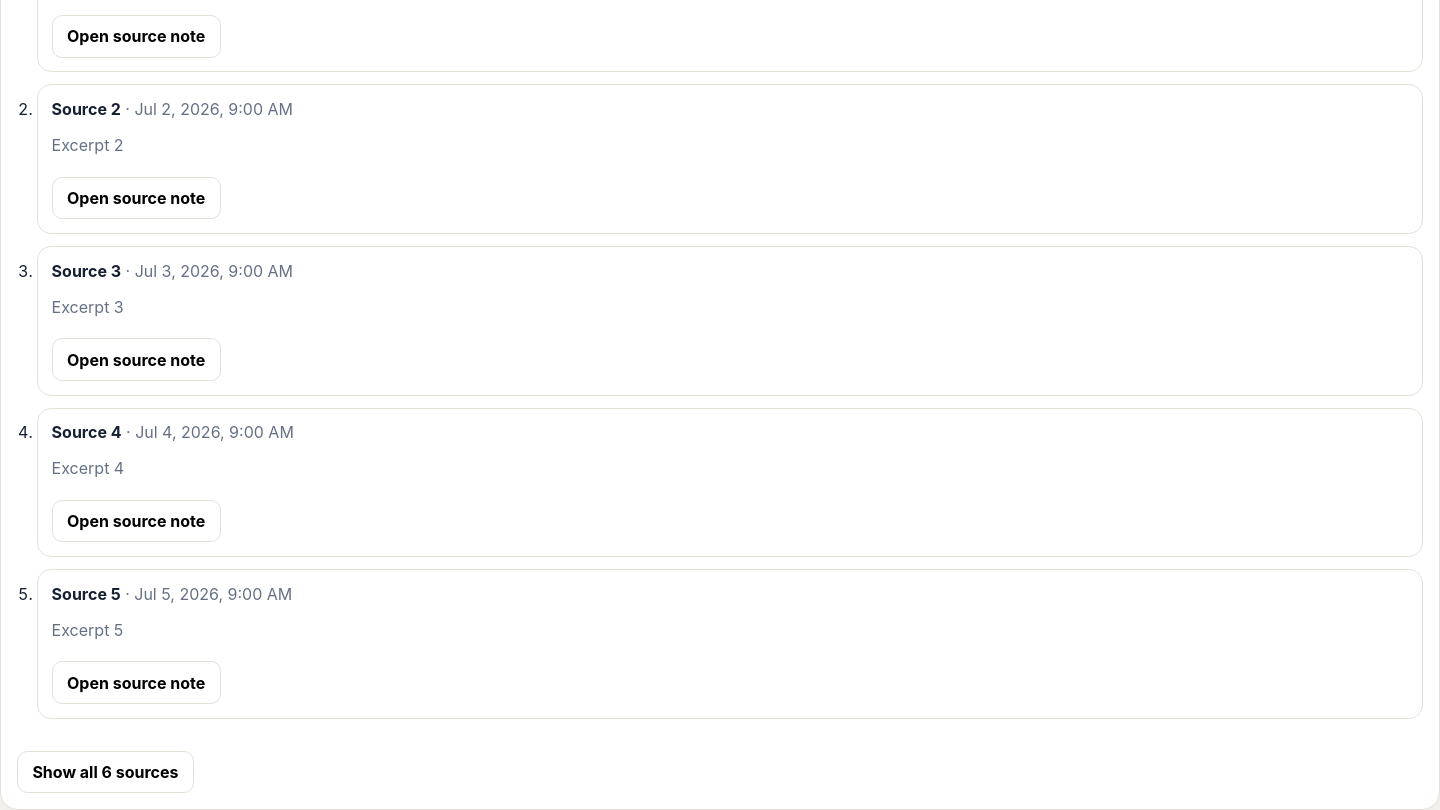
Test: CollapsibleSourceList › shows the first five of six sources, preserves API order, expands and collapses
(page scrolled)
Expected: the text "Source 6" is not shown
What coordinates should you click on to do the following:
click the button "Show all 6 sources"
I would click on:
 (105, 772)
Its box is [17,751,194,793].
(page scrolled)
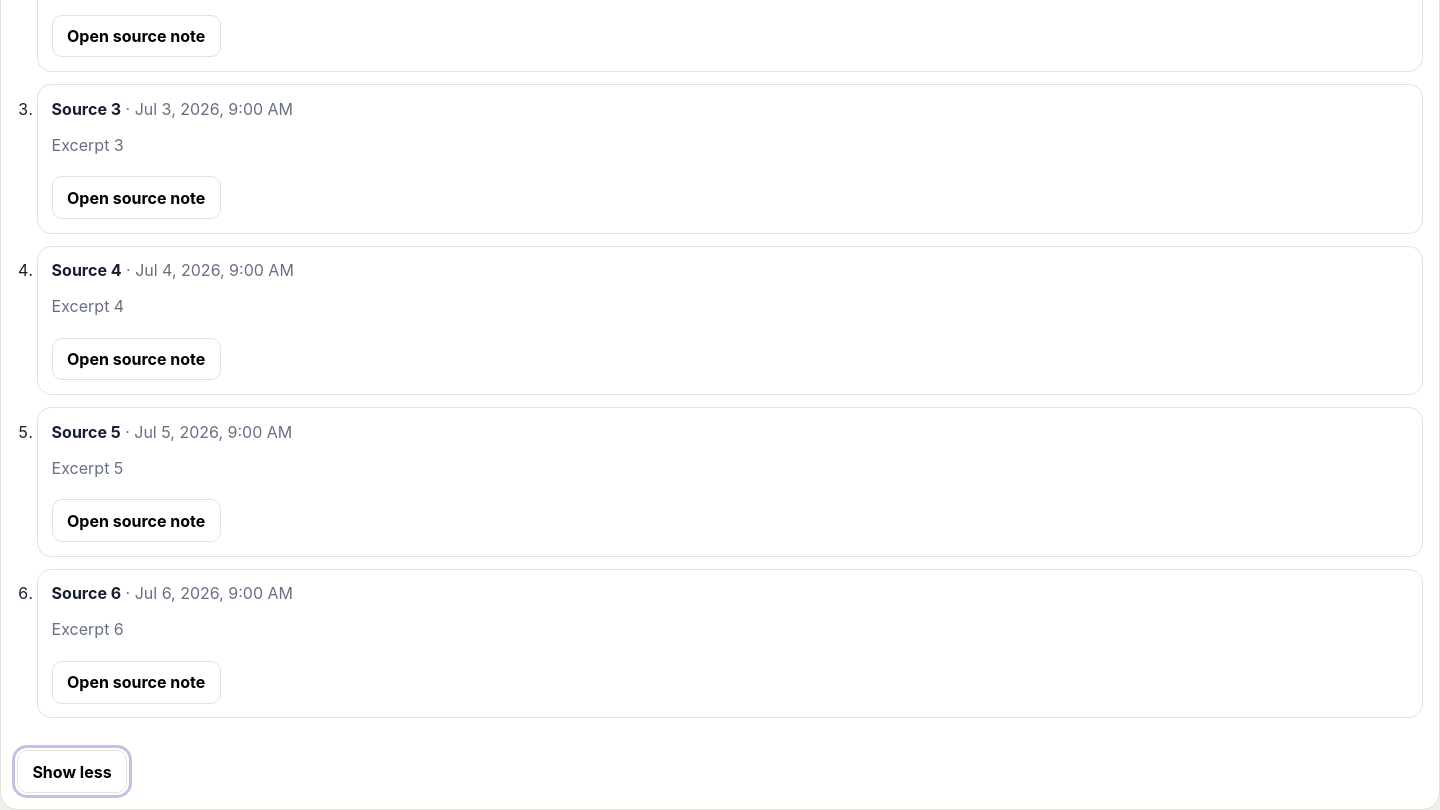
Result: the button named "Show all 6 sources" is expanded
Result: the text "Source 6" is shown at [52,583,121,603]
What coordinates should you click on to do the following:
click the button with aria-label "Show fewer 6 sources"
I would click on:
 (72, 772)
Its box is [17,750,127,793].
(page scrolled)
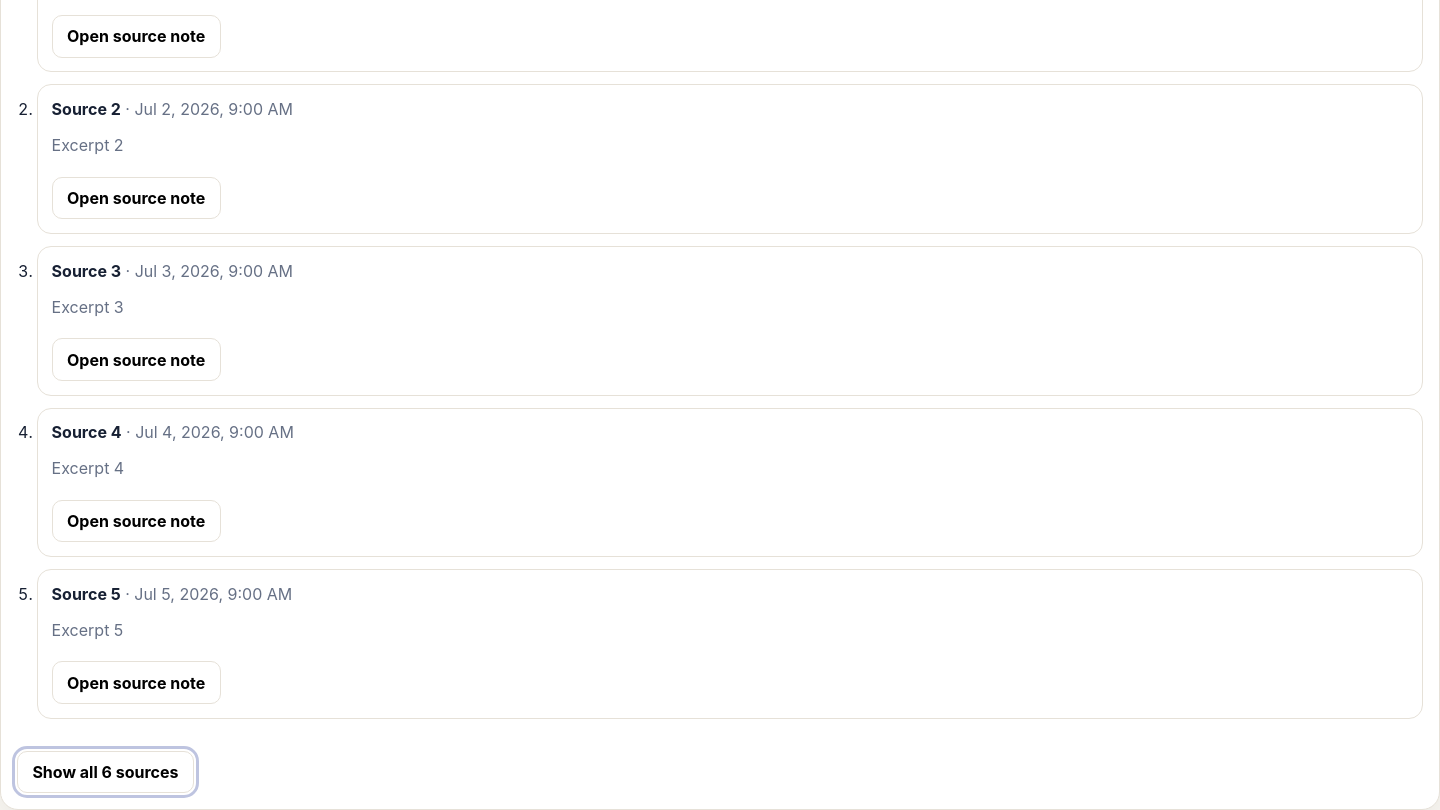
Result: the text "Source 6" is gone
